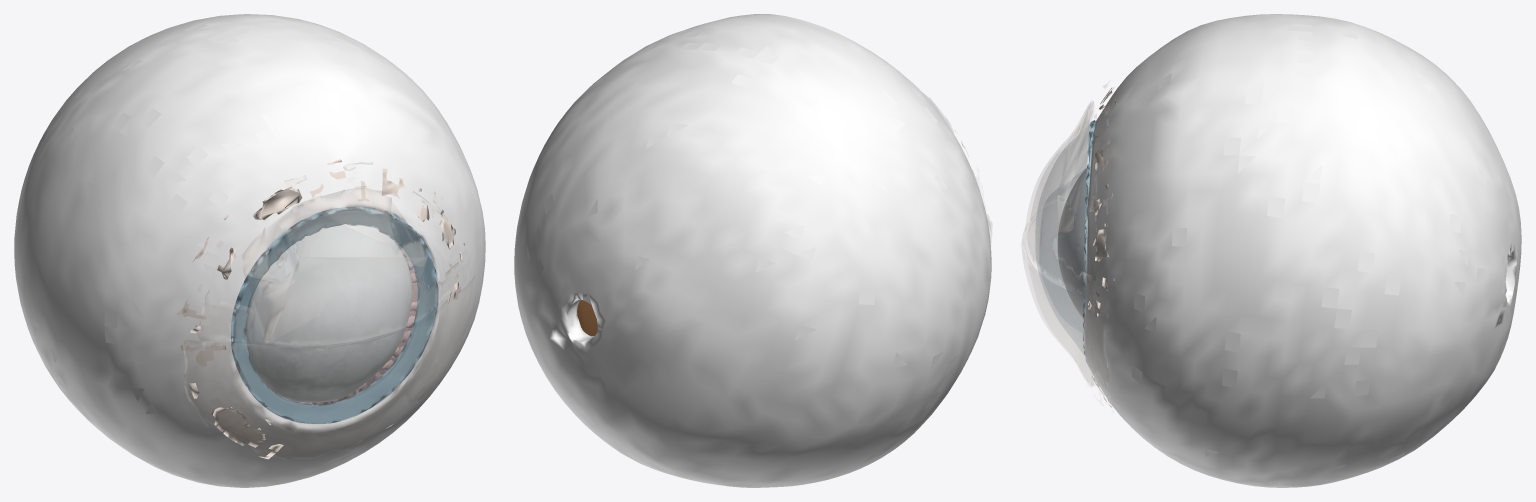
The picture shows the model from 3 angles, left to right: view 1: azimuth 30°, elevation 25°; view 2: azimuth 150°, elevation 25°; view 3: azimuth 270°, elevation 25°; orthographic projection.
Parts seen in each view (by area): view 1: VH_M_sclera_R, VH_M_cornea_R, VH_M_palpebral_conjunctiva_of_upper_eyelid_R, VH_M_palpebral_conjunctiva_of_lower_eyelid_R, VH_M_aqueous_humor_R, VH_M_corneo_scleral_junction_R, VH_M_bulbar_conjunctiva_R, VH_M_ciliary_muscle_R; view 2: VH_M_sclera_R, VH_M_optic_choroid_R; view 3: VH_M_sclera_R, VH_M_cornea_R, VH_M_palpebral_conjunctiva_of_upper_eyelid_R, VH_M_palpebral_conjunctiva_of_lower_eyelid_R, VH_M_aqueous_humor_R, VH_M_bulbar_conjunctiva_R, VH_M_corneo_scleral_junction_R.
Part boxes in pixels (x1,y1,x2,y2): VH_M_sclera_R: (14,14,485,487); VH_M_cornea_R: (233,209,438,423); VH_M_palpebral_conjunctiva_of_upper_eyelid_R: (197,163,470,345); VH_M_palpebral_conjunctiva_of_lower_eyelid_R: (183,276,474,458); VH_M_aqueous_humor_R: (246,224,412,402); VH_M_corneo_scleral_junction_R: (230,206,438,423); VH_M_bulbar_conjunctiva_R: (177,159,465,459); VH_M_ciliary_muscle_R: (295,242,417,404); VH_M_sclera_R: (514,14,991,487); VH_M_optic_choroid_R: (577,300,597,336); VH_M_sclera_R: (1084,14,1521,487); VH_M_cornea_R: (1036,122,1093,354); VH_M_palpebral_conjunctiva_of_upper_eyelid_R: (1025,81,1109,311); VH_M_palpebral_conjunctiva_of_lower_eyelid_R: (1022,220,1113,411); VH_M_aqueous_humor_R: (1057,168,1087,318); VH_M_bulbar_conjunctiva_R: (1088,88,1116,407); VH_M_corneo_scleral_junction_R: (1083,120,1095,354).
Size of the model in its own units: 0.0245 by 0.0244 by 0.0257.
